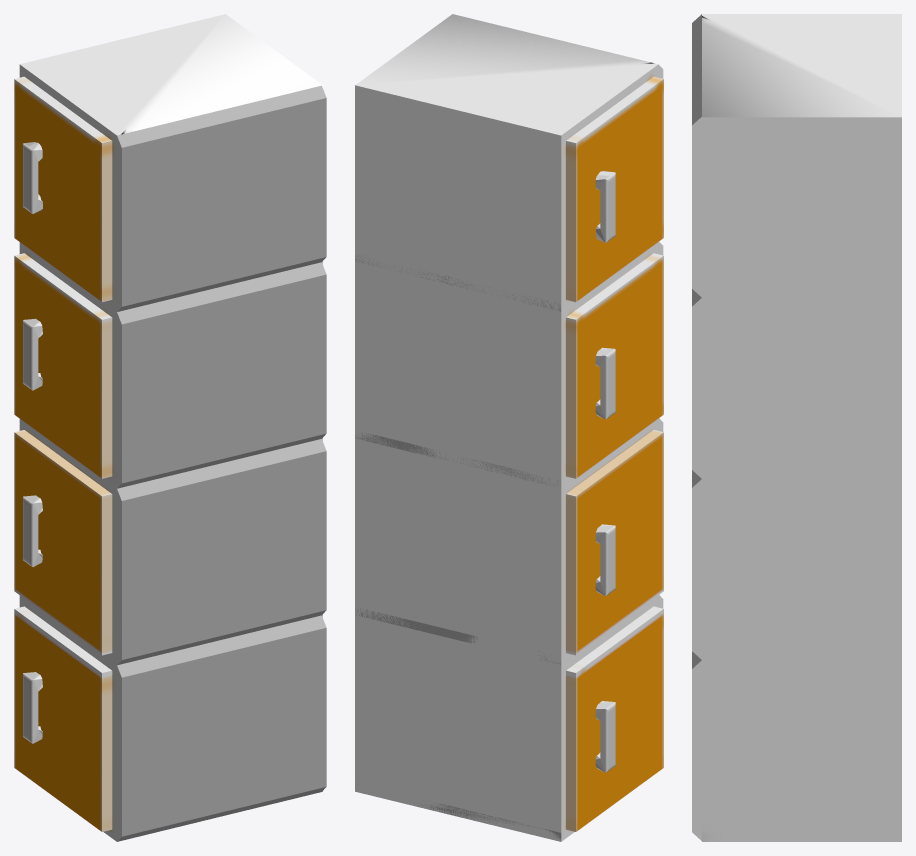
The model's file is lemari2.fbx.
3 renders of one model, left to right at view 1: azimuth 30°, elevation 25°; view 2: azimuth 150°, elevation 25°; view 3: azimuth 270°, elevation 25°, orthographic. The views are drawn at different scales.
Visible parts, largest first — view 1: Cube, Cube.001; view 2: Cube, Cube.001; view 3: Cube.
Boxes of the visible parts, x1,y1,x2,y2 form: Cube: (14, 14, 326, 841); Cube.001: (23, 142, 42, 743); Cube: (355, 14, 663, 841); Cube.001: (595, 171, 615, 772); Cube: (692, 14, 901, 841).
Bounding box in the file's own units: 67.49 × 200 × 52.48.
